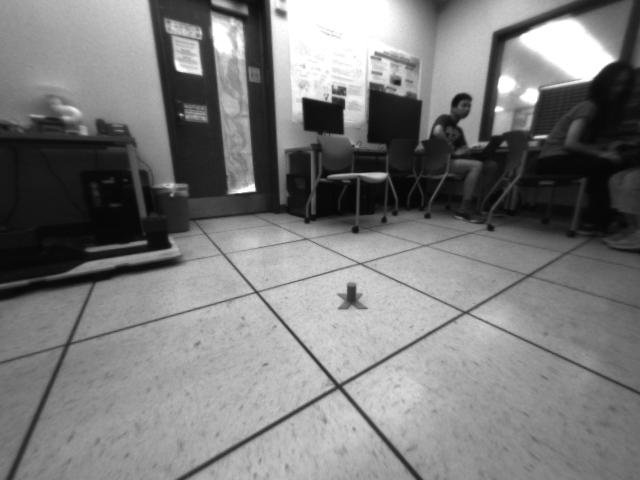x: (337, 280, 368, 310)
